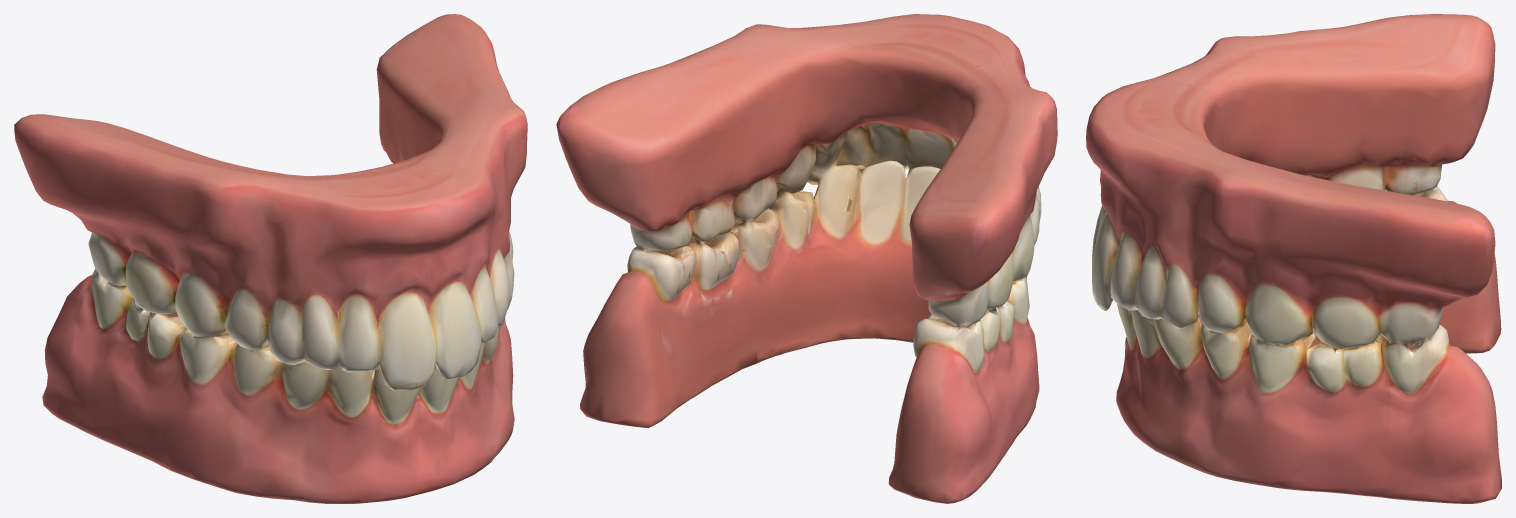
The model's file is modelaftænder2.glb.
3 renders of one model, left to right at view 1: azimuth 30°, elevation 25°; view 2: azimuth 150°, elevation 25°; view 3: azimuth 270°, elevation 25°, orthographic. The views are drawn at different scales.
Bounding box in the file's own units: 2 × 1.32 × 1.63.
1 material, 1 textured.
